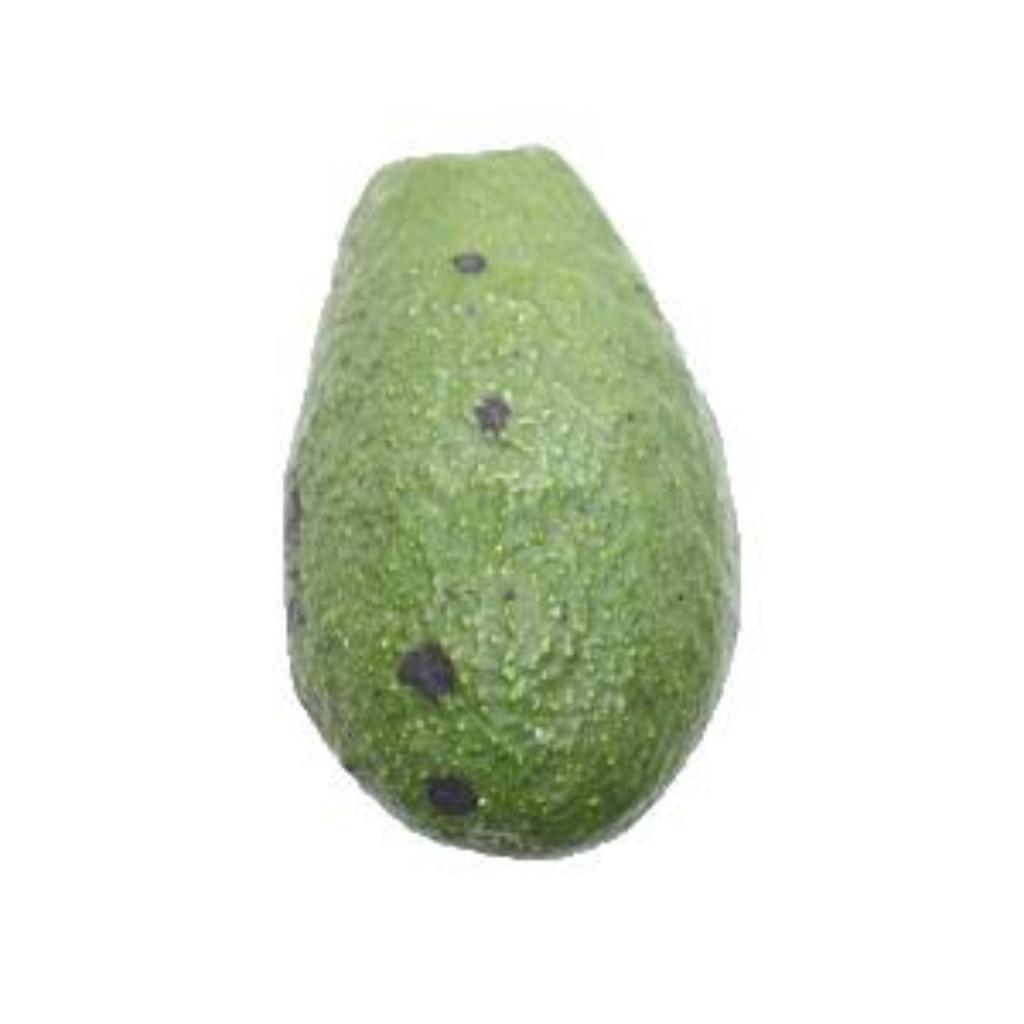cercospora: (242, 121, 802, 875)
